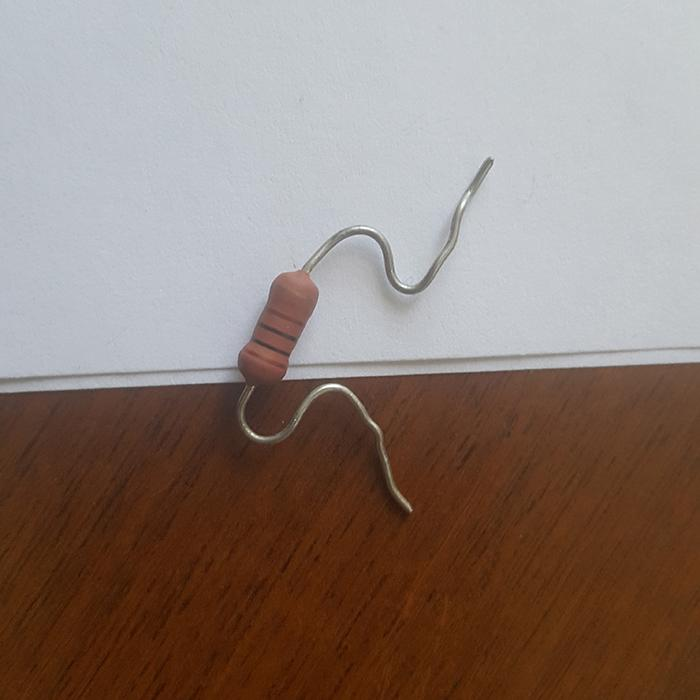resistor: (237, 268, 320, 384)
